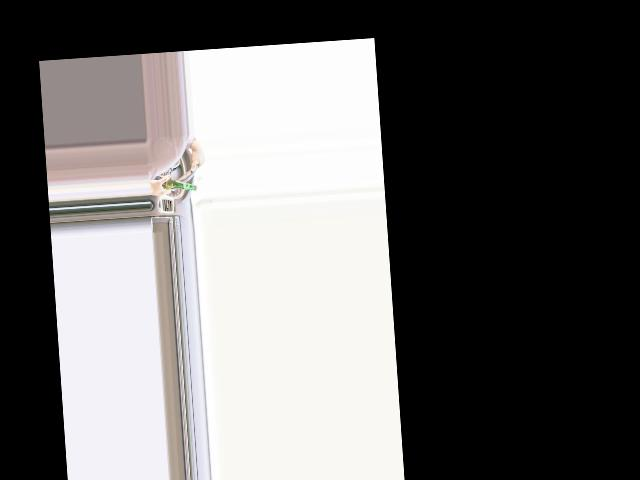beer: (152, 172, 197, 194)
